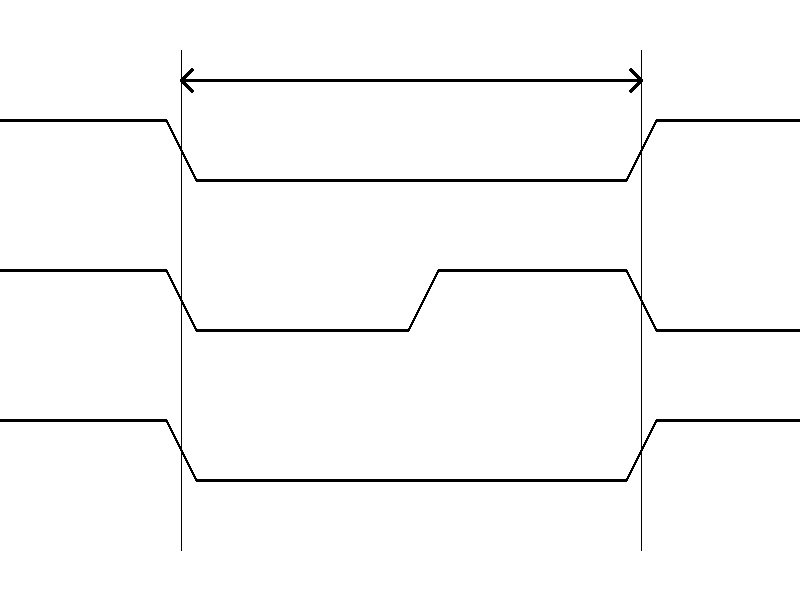double_arrow: (181, 65, 641, 95)
